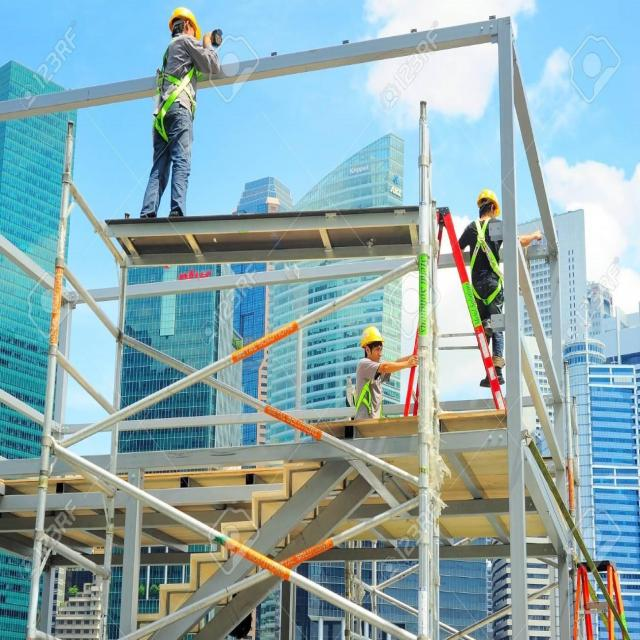person: (142, 12, 222, 222), (457, 192, 515, 380), (353, 323, 394, 420)
